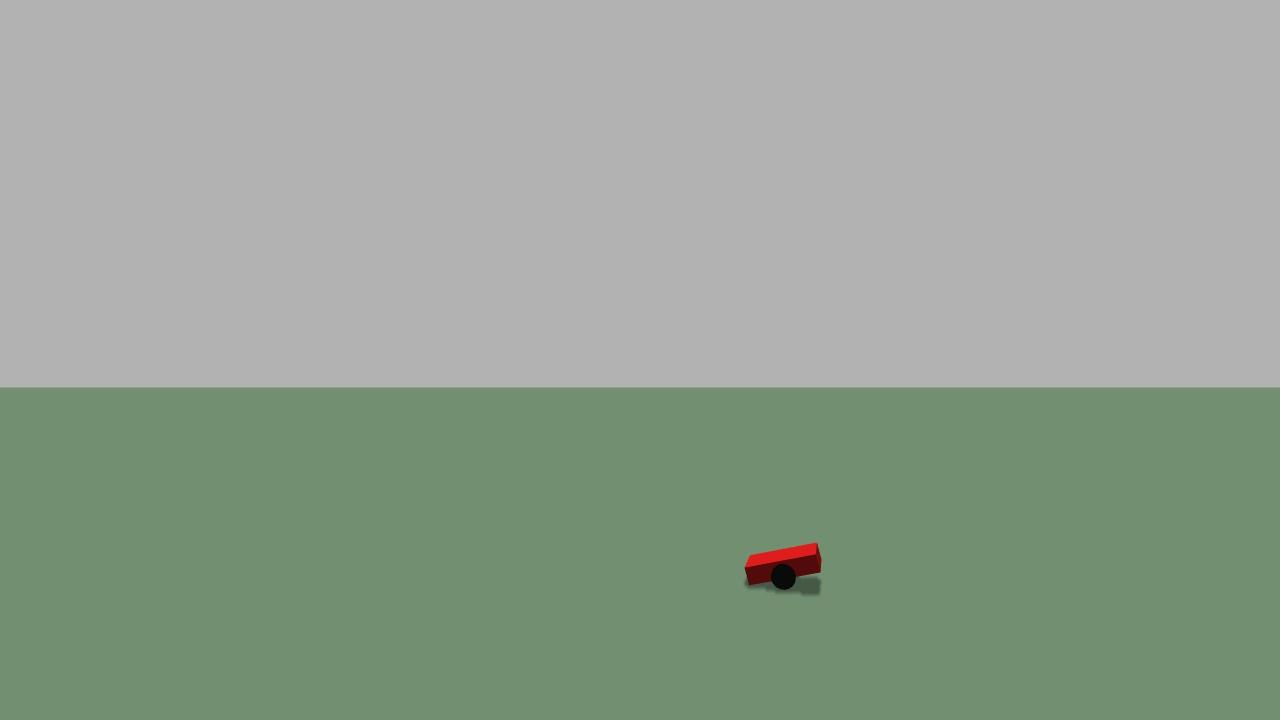ground_vehicle: (717, 535, 839, 600)
